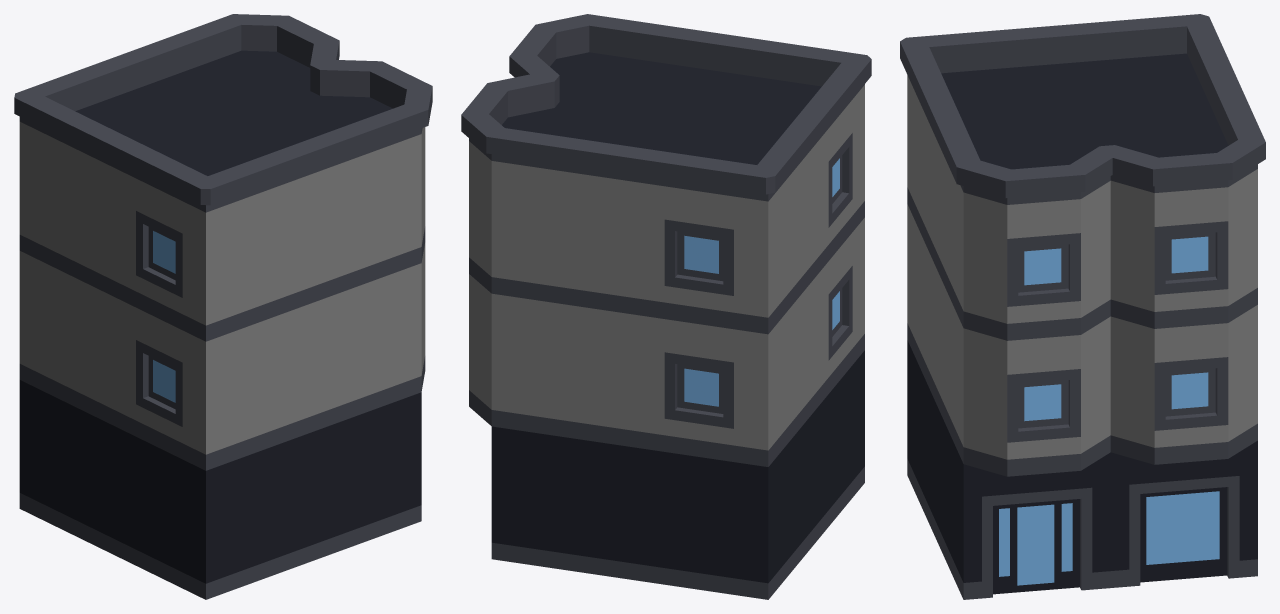
Rendered from variant_39.obj.
The picture shows the model from 3 angles, left to right: view 1: azimuth 30°, elevation 25°; view 2: azimuth 150°, elevation 25°; view 3: azimuth 270°, elevation 25°; orthographic projection. The views are drawn at different scales.
Parts seen in each view (by area): view 1: small_buildingA; view 2: small_buildingA; view 3: small_buildingA.
Boxes of the visible parts, x1=… form: small_buildingA: x1=14, y1=14, x2=432, y2=599; small_buildingA: x1=461, y1=14, x2=871, y2=599; small_buildingA: x1=900, y1=14, x2=1265, y2=599.
Size of the model in its own units: 1.06 by 1.28 by 0.9766.
